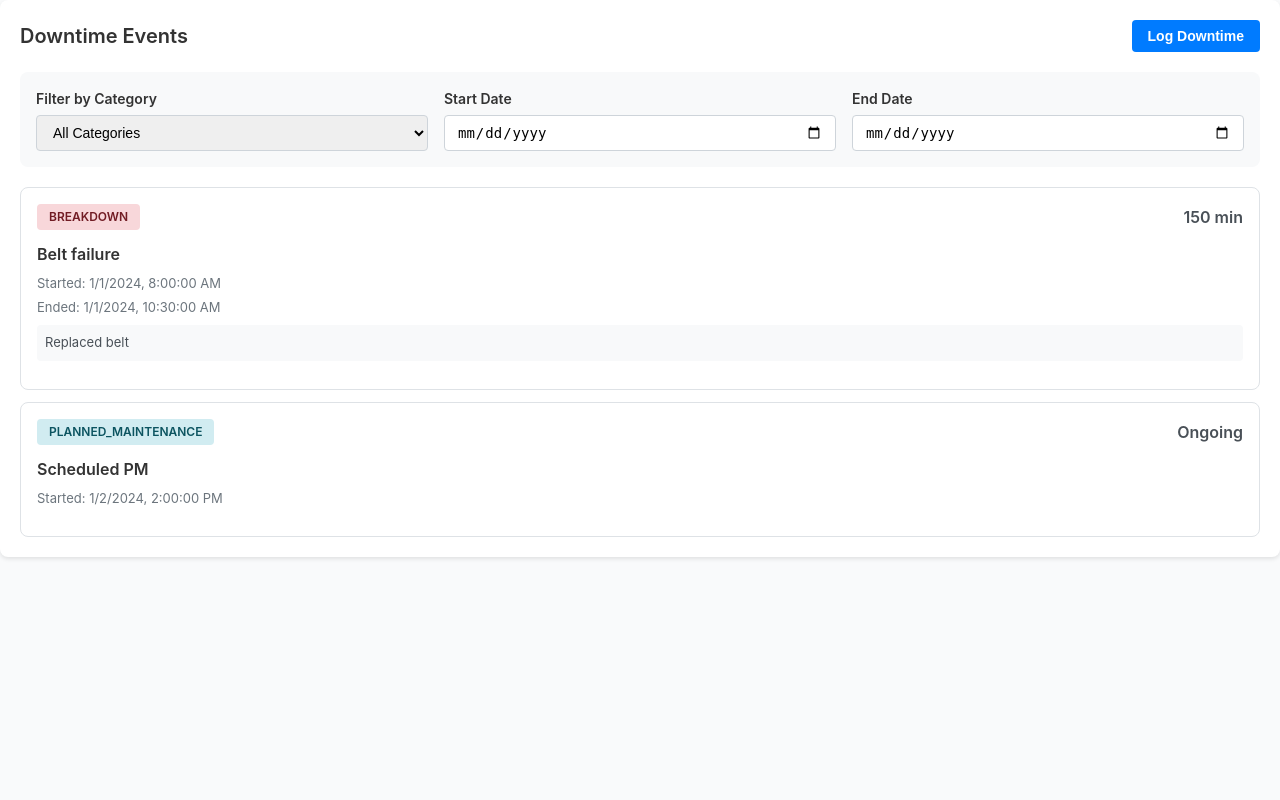
Test: DowntimeTracker › should filter events by date range
The width and height of the screenshot is (1280, 800).
Filter to only show Jan 1st events
In the date field labelled "Start Date": point(640, 133) top-left (444, 115), bottom-right (836, 151), type "2024-01-01"
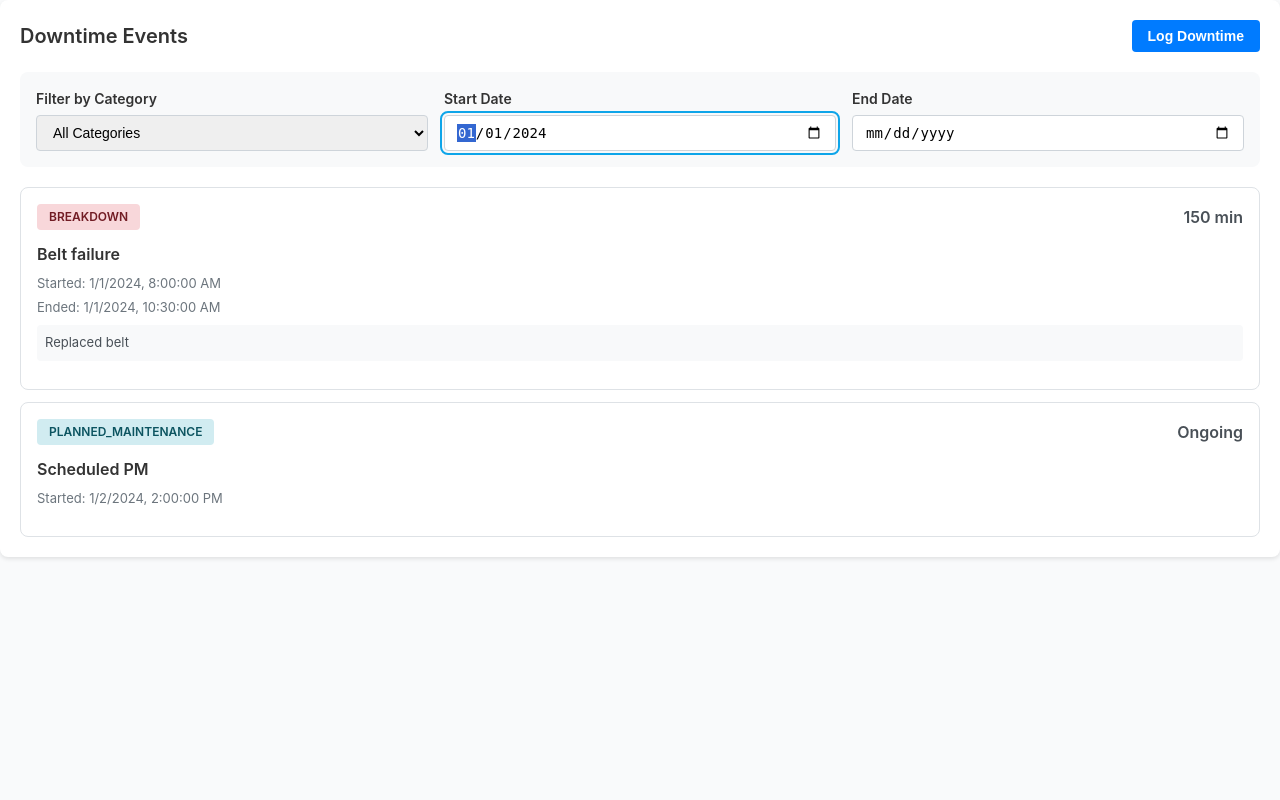
In the date field labelled "End Date": point(1048, 133) top-left (852, 115), bottom-right (1244, 151), type "2024-01-01"
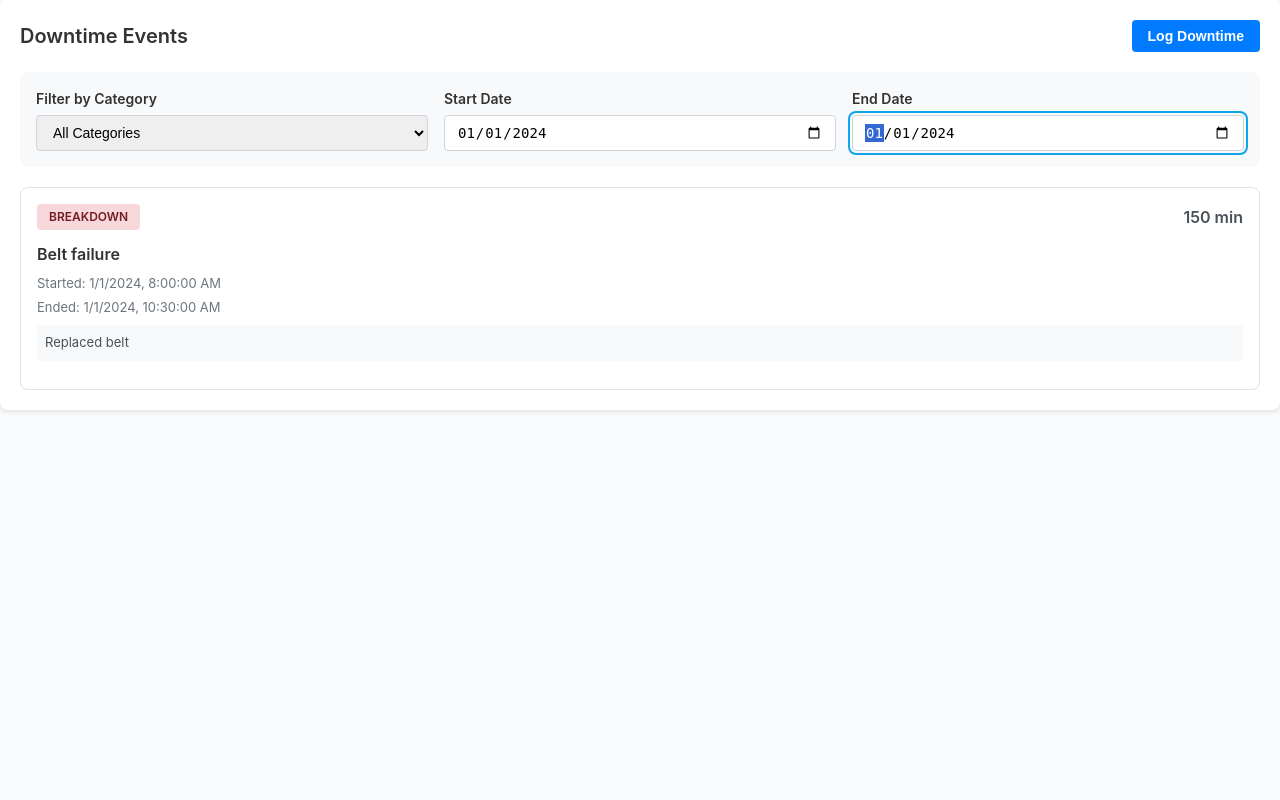
Expected: the text "Belt failure" is shown, top-left (37, 244), bottom-right (120, 264)
Now the text "Scheduled PM" is gone
